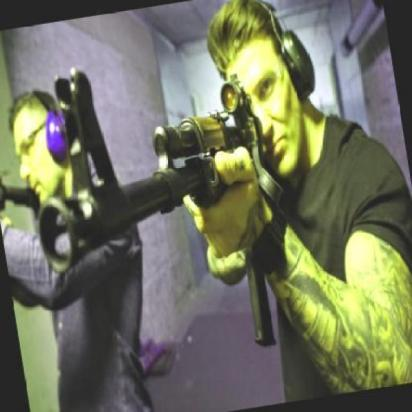Gun: (19, 63, 304, 382)
